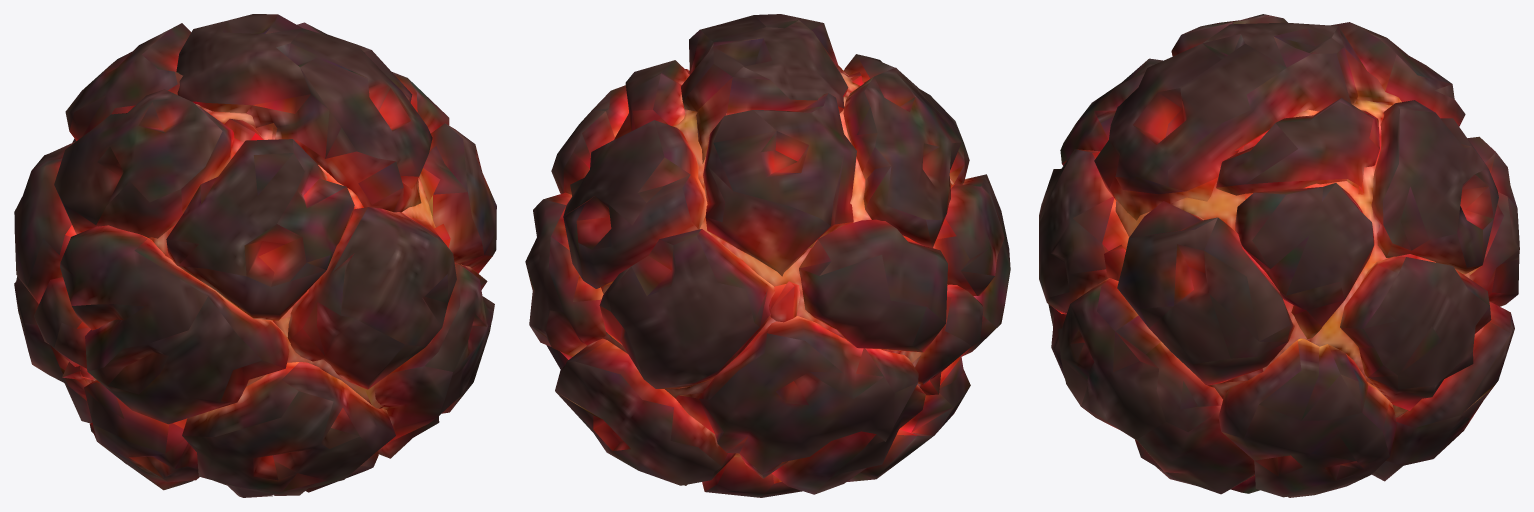
Rendered from meteor.glb.
3 views of the same model, side by side, from view 1: azimuth 30°, elevation 25°; view 2: azimuth 150°, elevation 25°; view 3: azimuth 270°, elevation 25° (orthographic). The views are drawn at different scales.
Parts seen in each view (by area): view 1: Mesh0; view 2: Mesh0; view 3: Mesh0.
Part boxes in pixels (box(x1,y1,x2,y2)): Mesh0: box(14, 14, 496, 497); Mesh0: box(525, 14, 1010, 497); Mesh0: box(1039, 14, 1519, 497).
Bounding box in the file's own units: 1 × 0.9991 × 1.
1 material, 1 textured.
